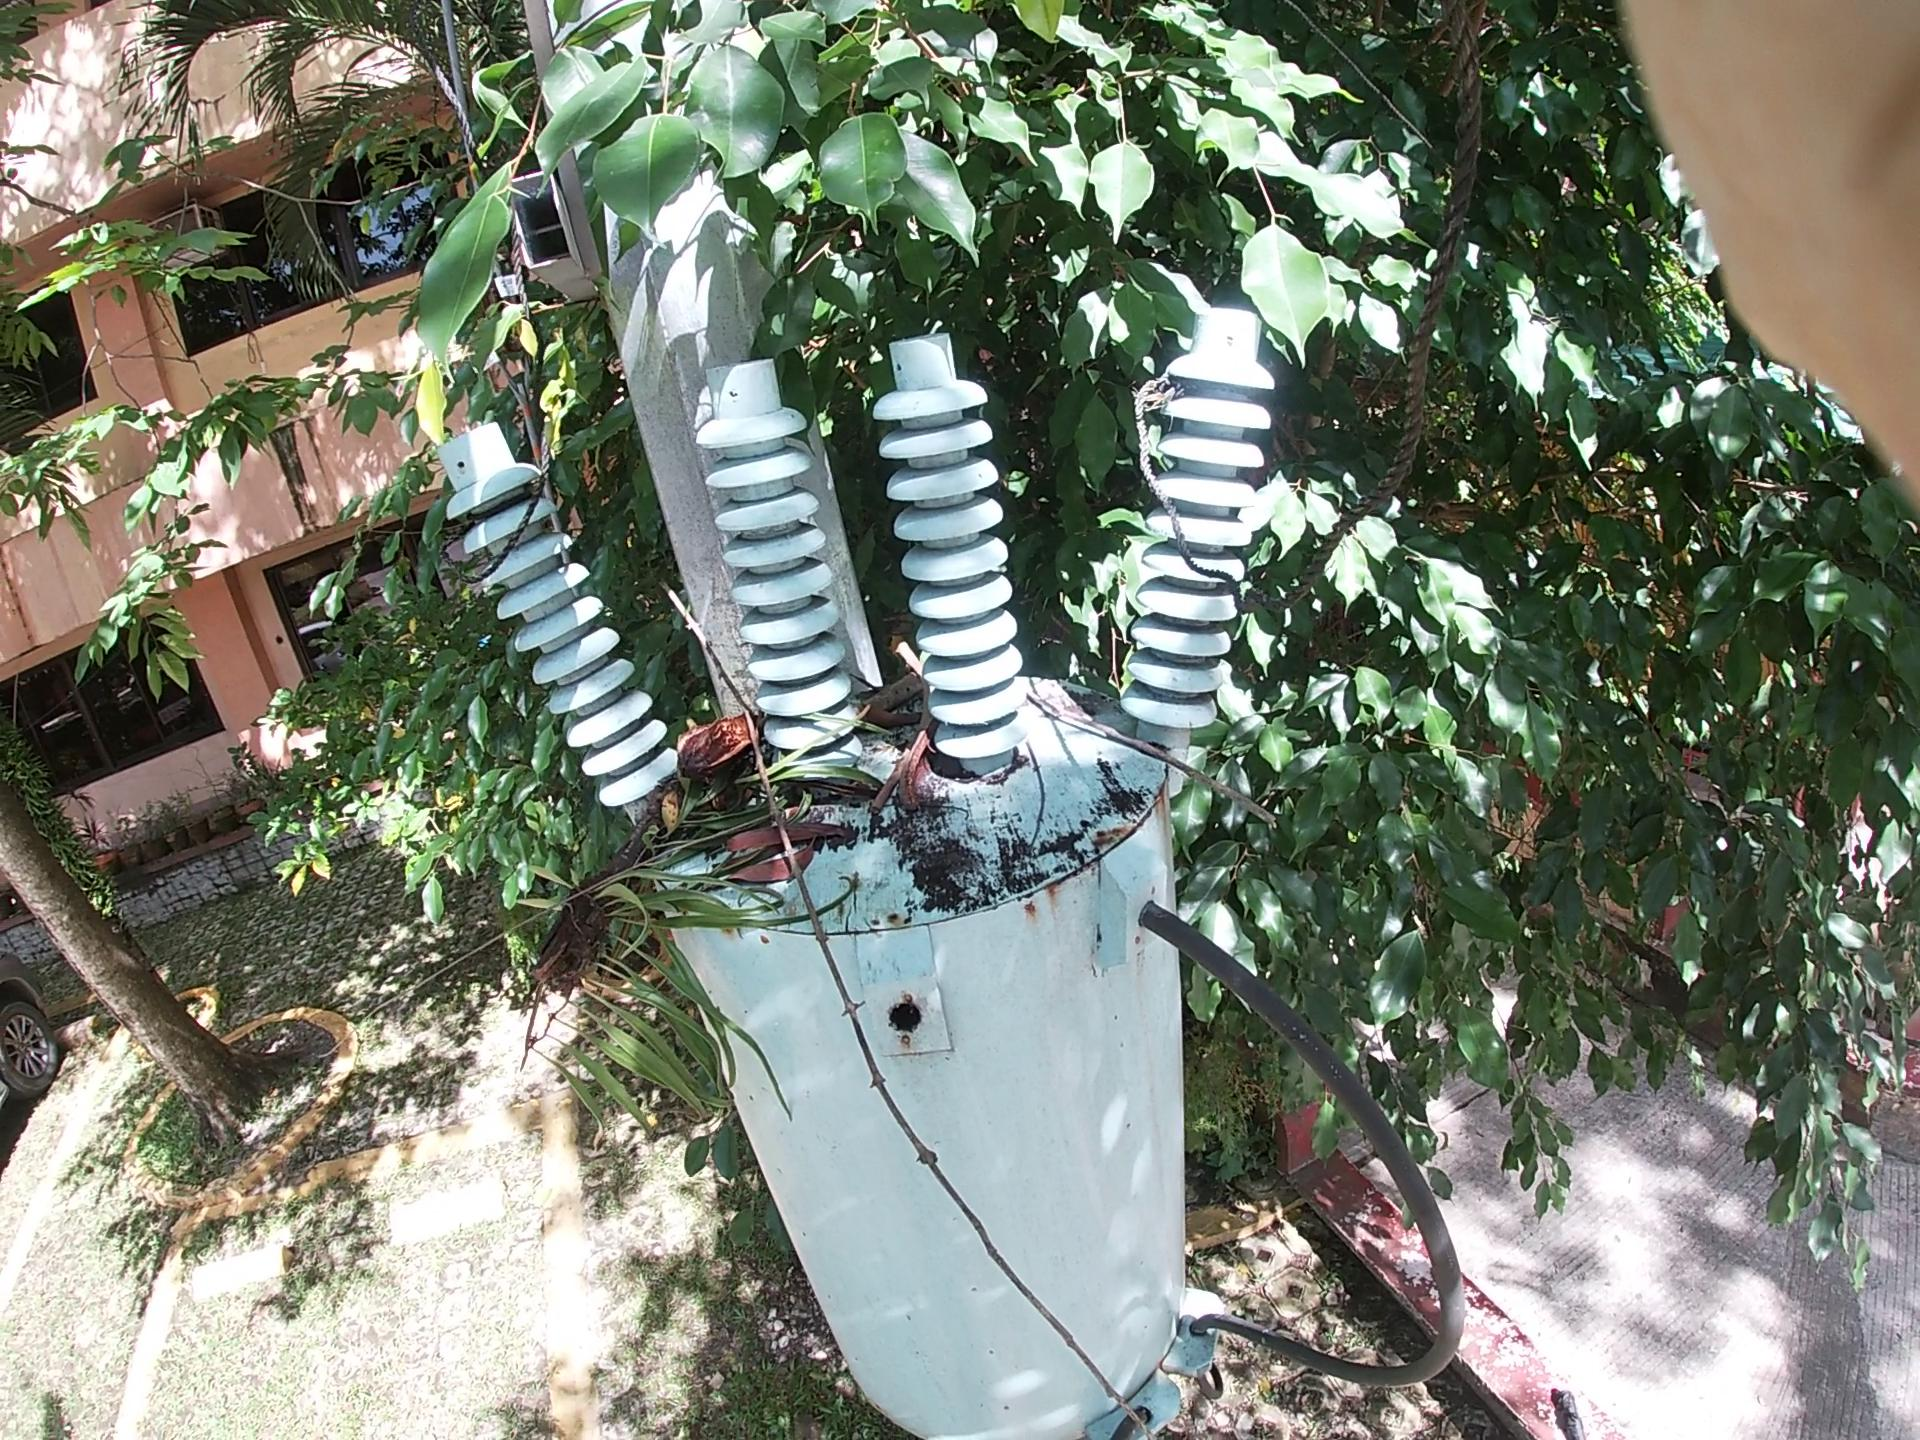branch with leaves: (376, 732, 763, 1074)
leaf: (708, 821, 812, 911)
mahogany fruit: (810, 631, 971, 821), (655, 684, 770, 774), (1025, 678, 1030, 681)
tree branch: (652, 535, 940, 1133), (1001, 632, 1241, 836), (841, 620, 940, 862)
